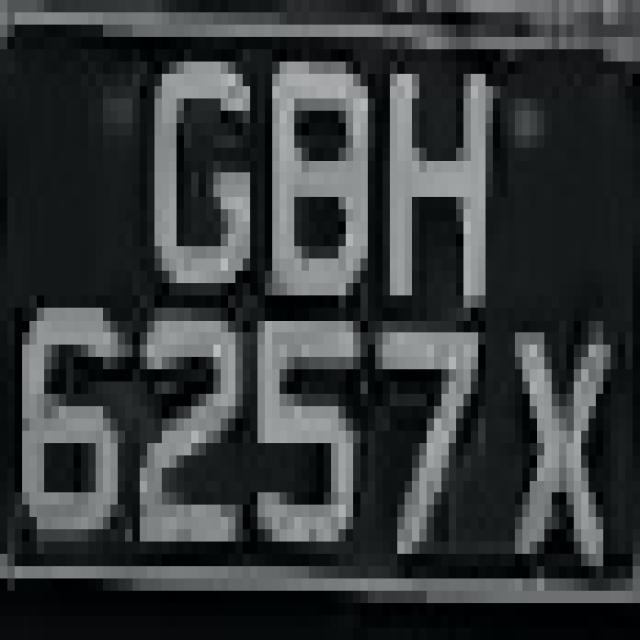2: (110, 283, 250, 566)
5: (243, 296, 368, 578)
6: (22, 258, 125, 578)
7: (353, 283, 478, 603)
B: (250, 37, 368, 308)
G: (125, 12, 280, 296)
H: (382, 25, 508, 320)
X: (485, 259, 618, 603)
